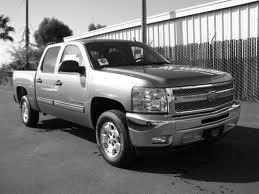car: (14, 38, 241, 170)
